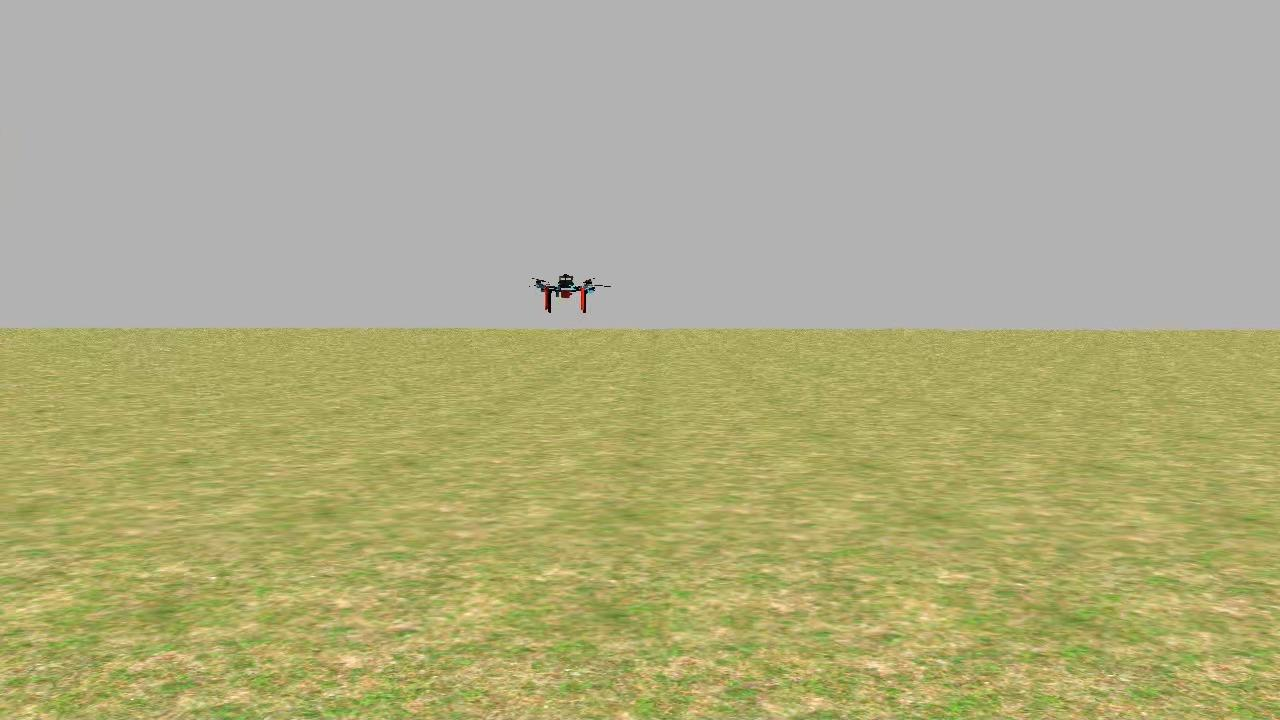UAV: (529, 264, 605, 315)
